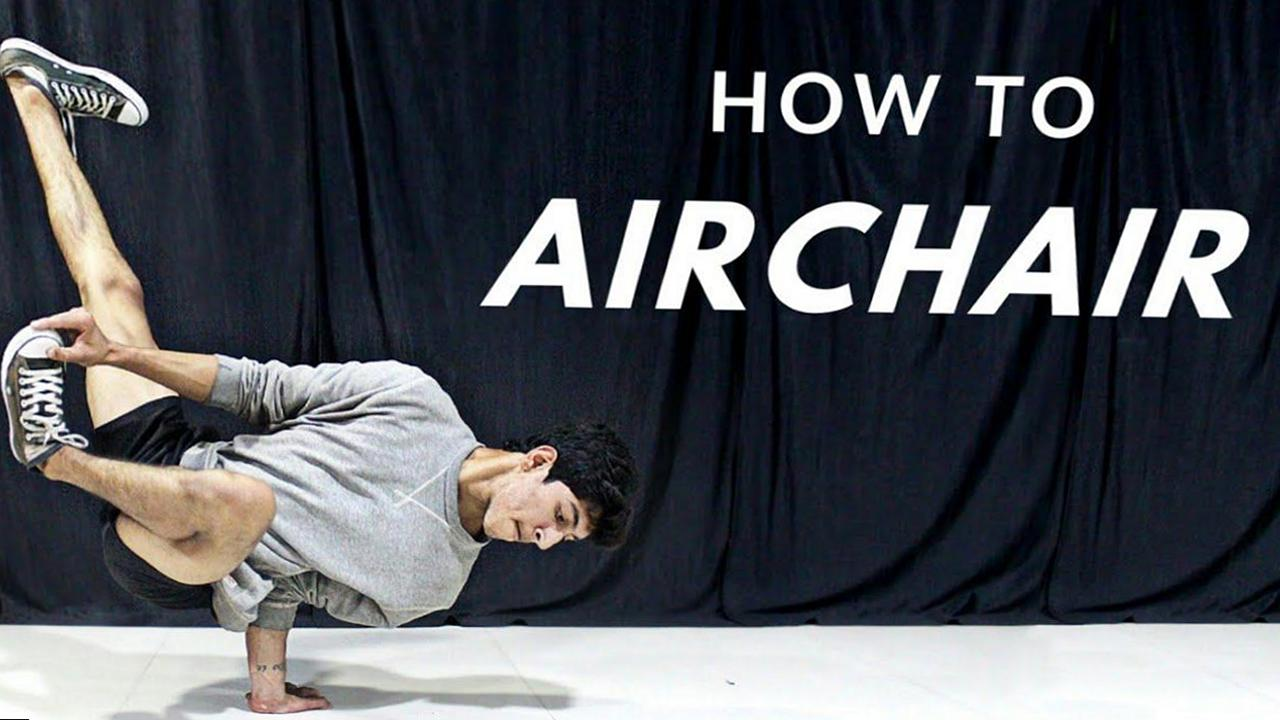airchair: (3, 36, 635, 713)
